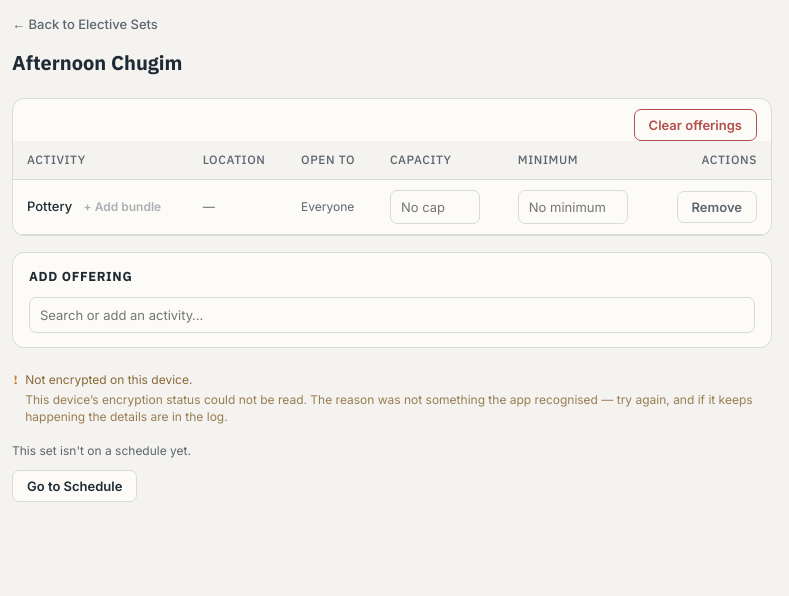
it: ElectiveSetDetail — offerings table › surfaces a write failure instead of silently swallowing it
Check: the text "Pottery" is shown, box left=27, top=198, right=72, bottom=214
Type "15" into the field named "Capacity for Pottery" at (435, 207), box left=390, top=190, right=480, bottom=224
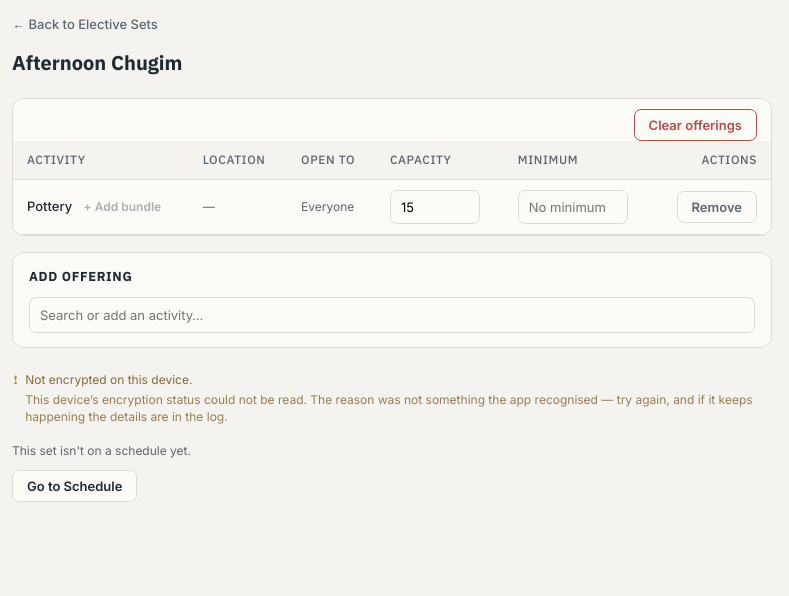
Leave the field named "Capacity for Pottery", box left=390, top=190, right=480, bottom=224
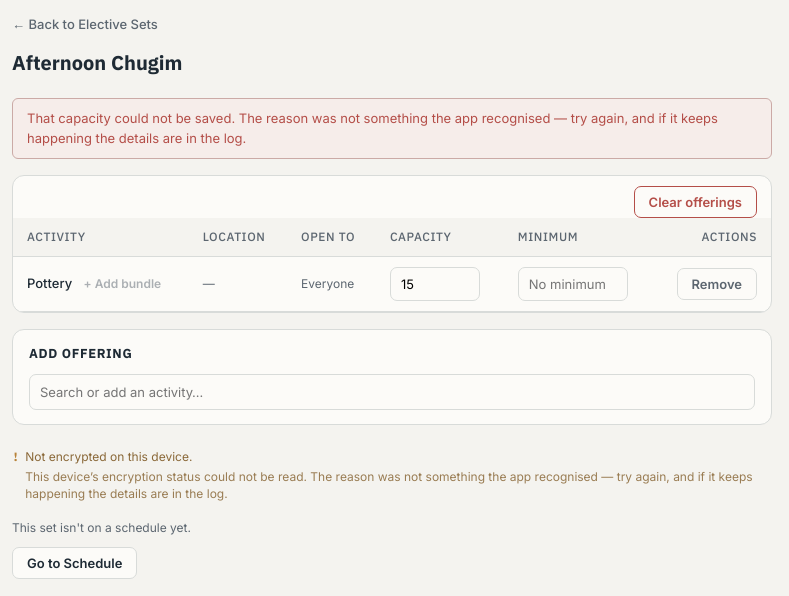
Check: the text "That capacity could not be saved" is shown, box left=27, top=110, right=718, bottom=146
